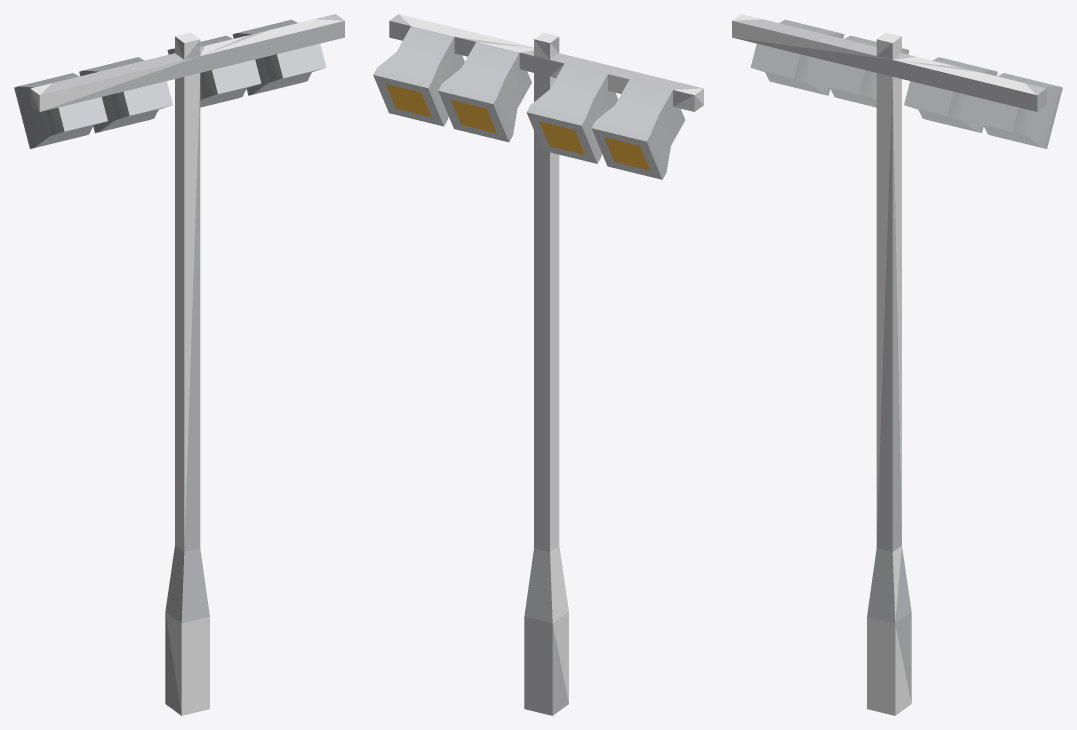
File: lightPostLarge.obj
3 renders of one model, left to right at view 1: azimuth 30°, elevation 25°; view 2: azimuth 150°, elevation 25°; view 3: azimuth 330°, elevation 25°, orthographic.
Parts seen in each view (by area): view 1: lightPostLarge; view 2: lightPostLarge; view 3: lightPostLarge.
Boxes of the visible parts, left/top/right/bottom form: lightPostLarge: left=14, top=14, right=344, bottom=715; lightPostLarge: left=373, top=14, right=703, bottom=715; lightPostLarge: left=732, top=14, right=1062, bottom=715.
Size of the model in its own units: 0.38 by 0.7957 by 0.0971.
